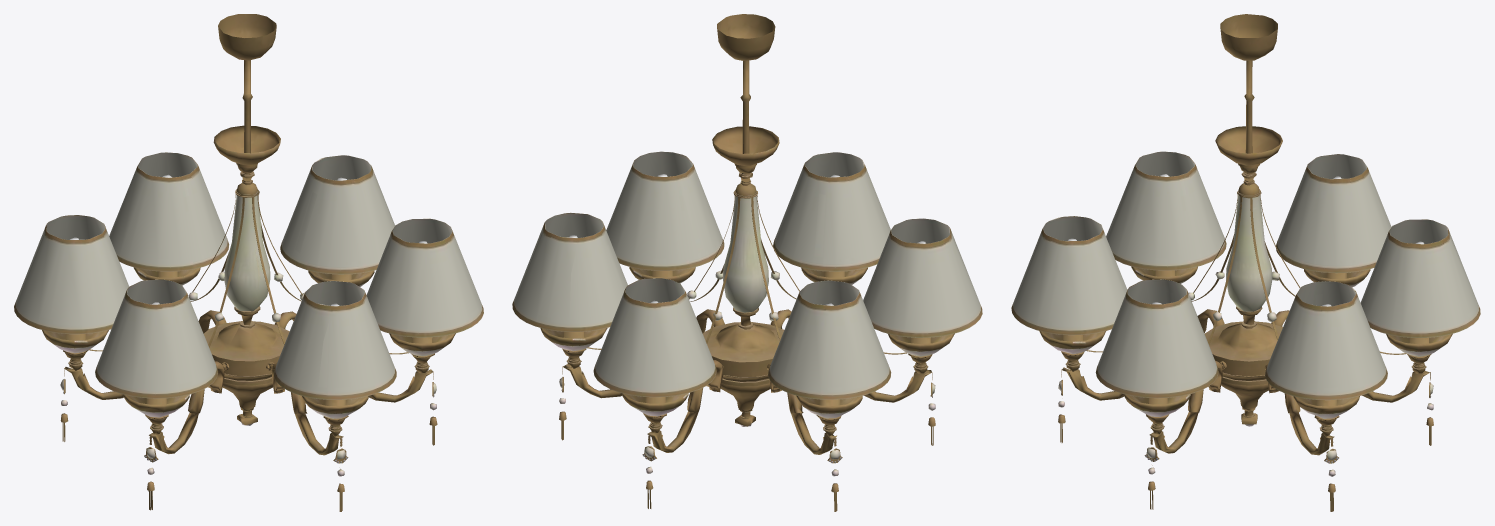
Rendered from chandelier_01.glb.
3 renders of one model, left to right at view 1: azimuth 30°, elevation 25°; view 2: azimuth 150°, elevation 25°; view 3: azimuth 270°, elevation 25°, orthographic.
Visible parts, largest first — view 1: Chandelier_01; view 2: Chandelier_01; view 3: Chandelier_01.
Boxes of the visible parts, x1,y1,x2,y2 form: Chandelier_01: [14, 14, 483, 511]; Chandelier_01: [512, 14, 982, 511]; Chandelier_01: [1011, 14, 1480, 511].
Bounding box in the file's own units: 0.7465 × 0.7982 × 0.8155.
2 materials, 1 textured.
